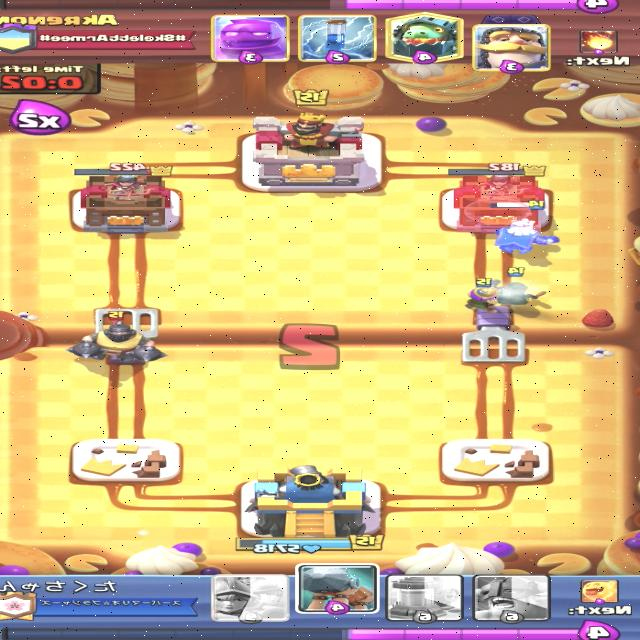Enemy-MegaKnight: (59, 310, 167, 362)
Player-Bandit: (491, 266, 550, 306)
Player-Musketeer: (461, 277, 505, 315)
Player-RoyalGhost: (492, 200, 564, 255)
